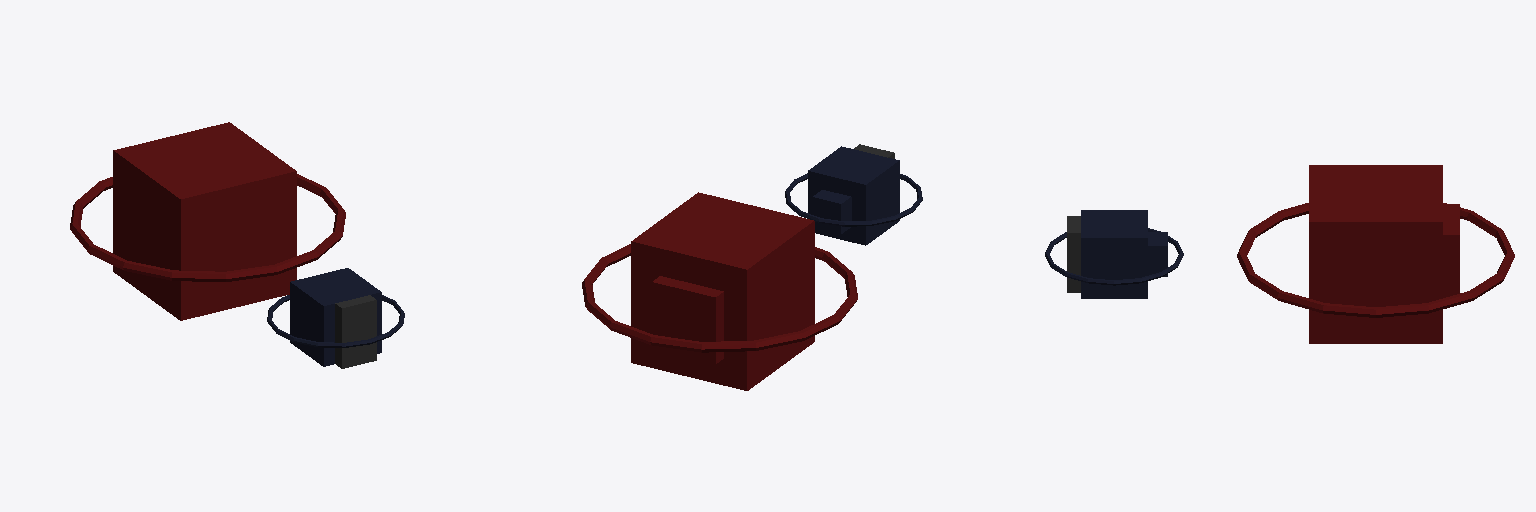
The model's file is MatchingGyro.obj.
The picture shows the model from 3 angles: view 1: azimuth 30°, elevation 25°; view 2: azimuth 150°, elevation 25°; view 3: azimuth 270°, elevation 25°; orthographic projection.
Parts seen in each view (by area): view 1: Remote1, Base1, Remotedecor1, Handle1, Basedecor1; view 2: Remote1, Base1, Remotedecor2, Remotedecor1, Basedecor2, Basedecor1; view 3: Remote1, Base1, Remotedecor1, Remotedecor2, Basedecor1, Handle1, Basedecor2.
Boxes of the visible parts, x1=… form: Remote1: x1=113, y1=122, x2=296, y2=320; Base1: x1=290, y1=268, x2=381, y2=366; Remotedecor1: x1=70, y1=174, x2=345, y2=281; Handle1: x1=335, y1=295, x2=376, y2=368; Basedecor1: x1=267, y1=295, x2=404, y2=347; Remote1: x1=631, y1=192, x2=814, y2=390; Base1: x1=808, y1=146, x2=899, y2=245; Remotedecor2: x1=652, y1=276, x2=723, y2=363; Remotedecor1: x1=582, y1=244, x2=857, y2=352; Basedecor2: x1=812, y1=190, x2=851, y2=233; Basedecor1: x1=785, y1=173, x2=922, y2=226; Remote1: x1=1309, y1=165, x2=1442, y2=343; Base1: x1=1081, y1=210, x2=1147, y2=298; Remotedecor1: x1=1237, y1=203, x2=1514, y2=317; Remotedecor2: x1=1443, y1=204, x2=1459, y2=297; Basedecor1: x1=1045, y1=228, x2=1183, y2=285; Handle1: x1=1067, y1=216, x2=1080, y2=292; Basedecor2: x1=1148, y1=232, x2=1167, y2=276.
Bounding box in the file's own units: 2.08 × 1 × 3.51.